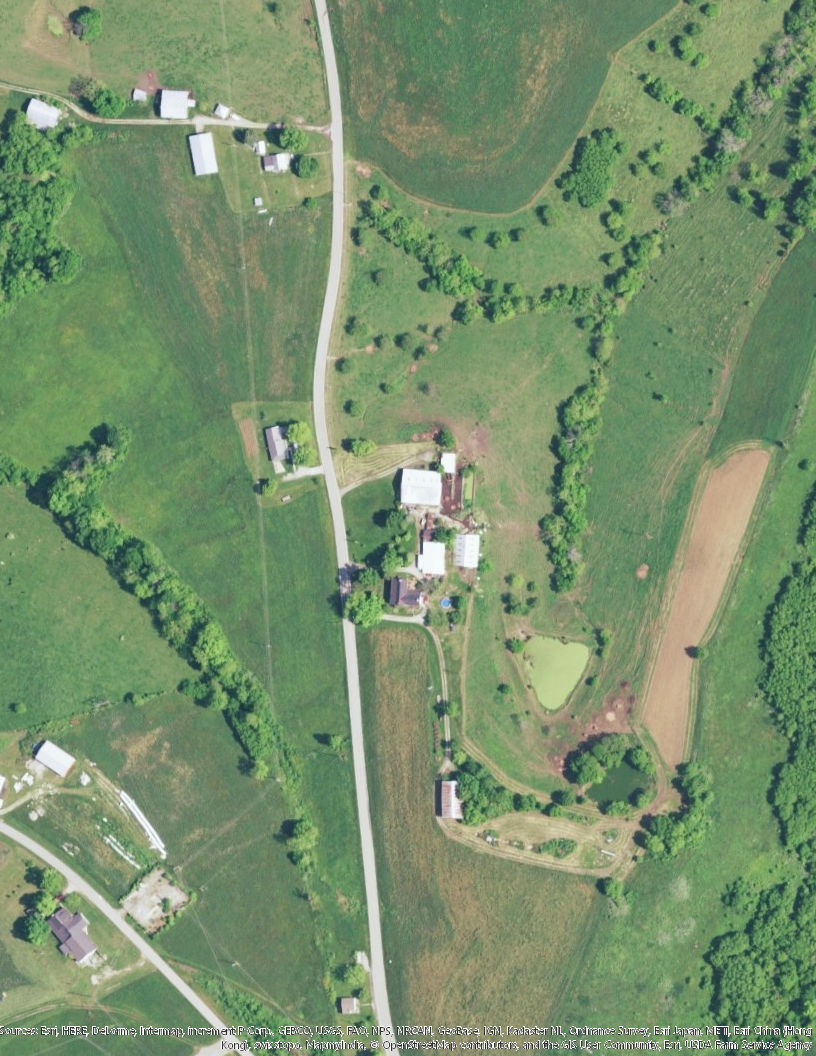cafo: (396, 456, 475, 513), (415, 512, 451, 582), (450, 512, 486, 574)
